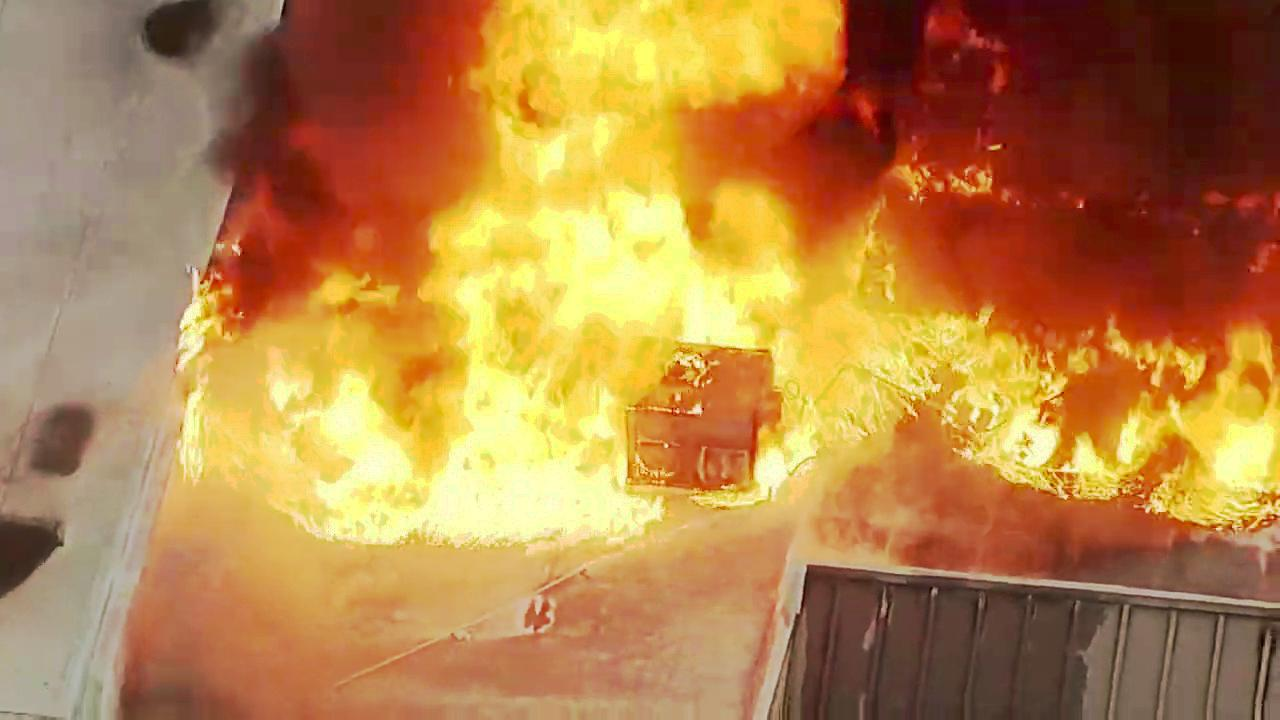fire: (210, 13, 879, 477), (875, 285, 1280, 536)
